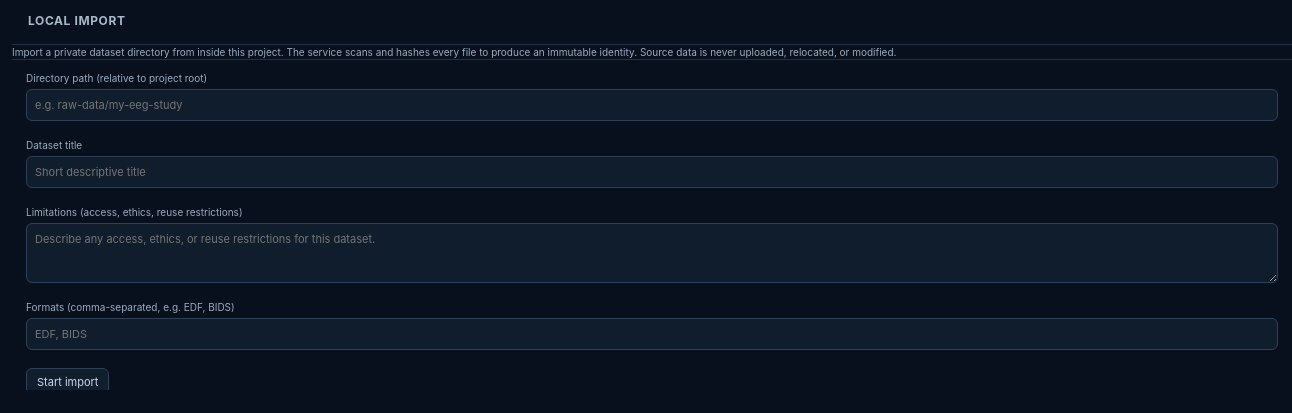
it: failed import flow: start -> fails -> focus Back button
In the field named "Directory path relative to project root": (652, 105) [26,89,1278,121], type "bad-data"
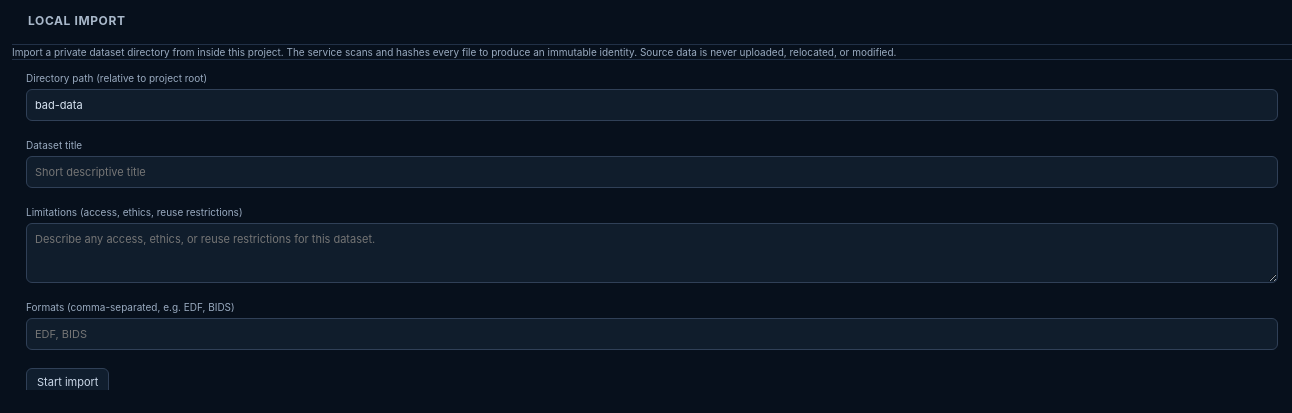
In the field labelled "Dataset title": (652, 172) [26,156,1278,188], type "Bad Data"
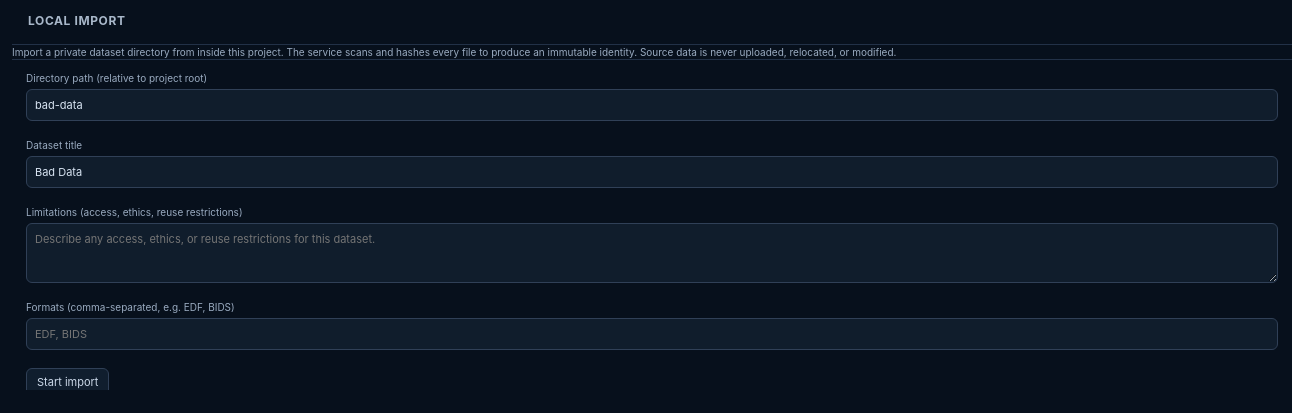
Click the button "Start import": (68, 382) [26,368,109,396]
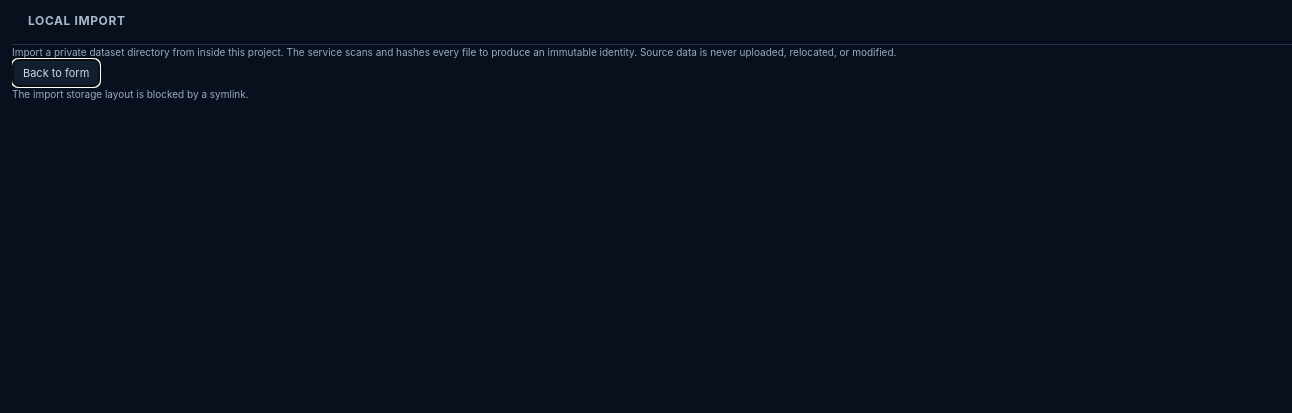
Expected: the text "The import storage layout is blocked by a symlink." is shown, [12,88,249,100]
Note: Pressing Escape in failure returns to form
Press Escape in the element with test id "local-import-failed", box [12,59,249,100]
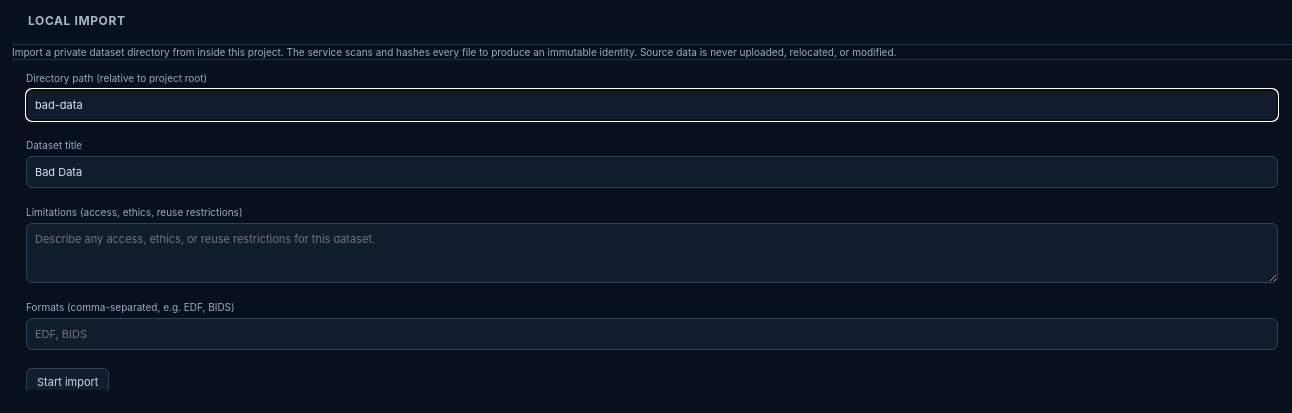
Expected: the field named "Directory path relative to project root" is shown, [26,89,1278,121]
